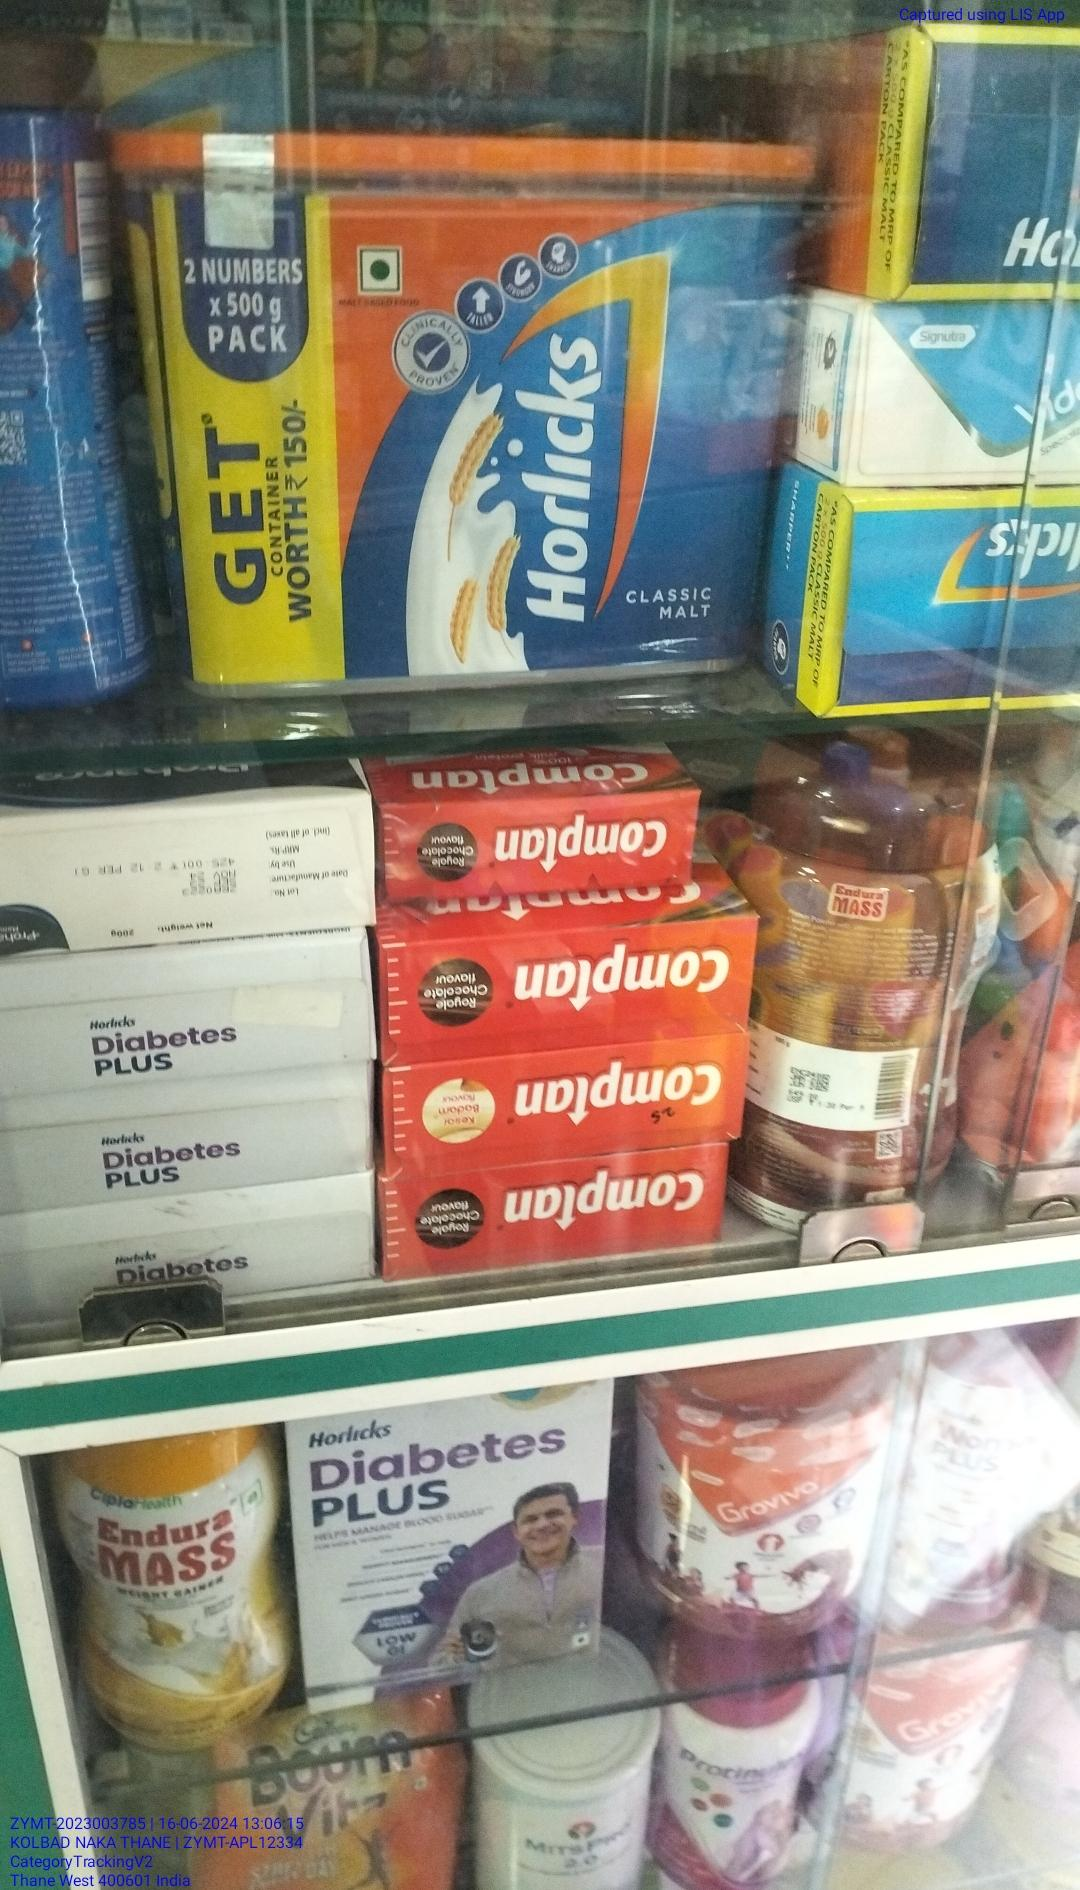HORLICK_MALT_1_KG_CONTAINER: (164, 109, 765, 693)
